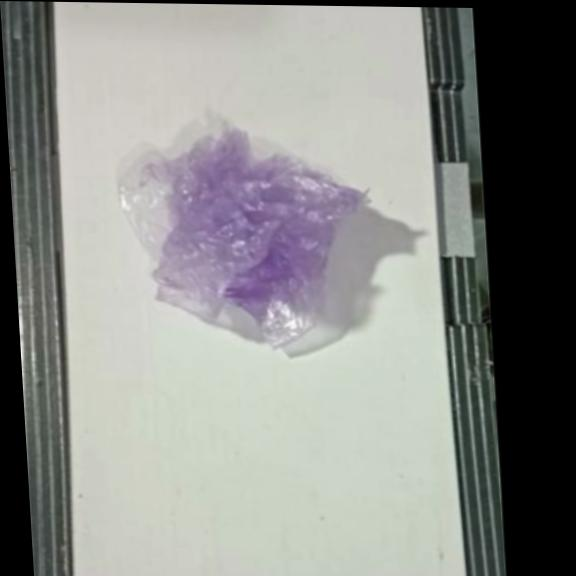Plastik: (116, 124, 383, 350)
